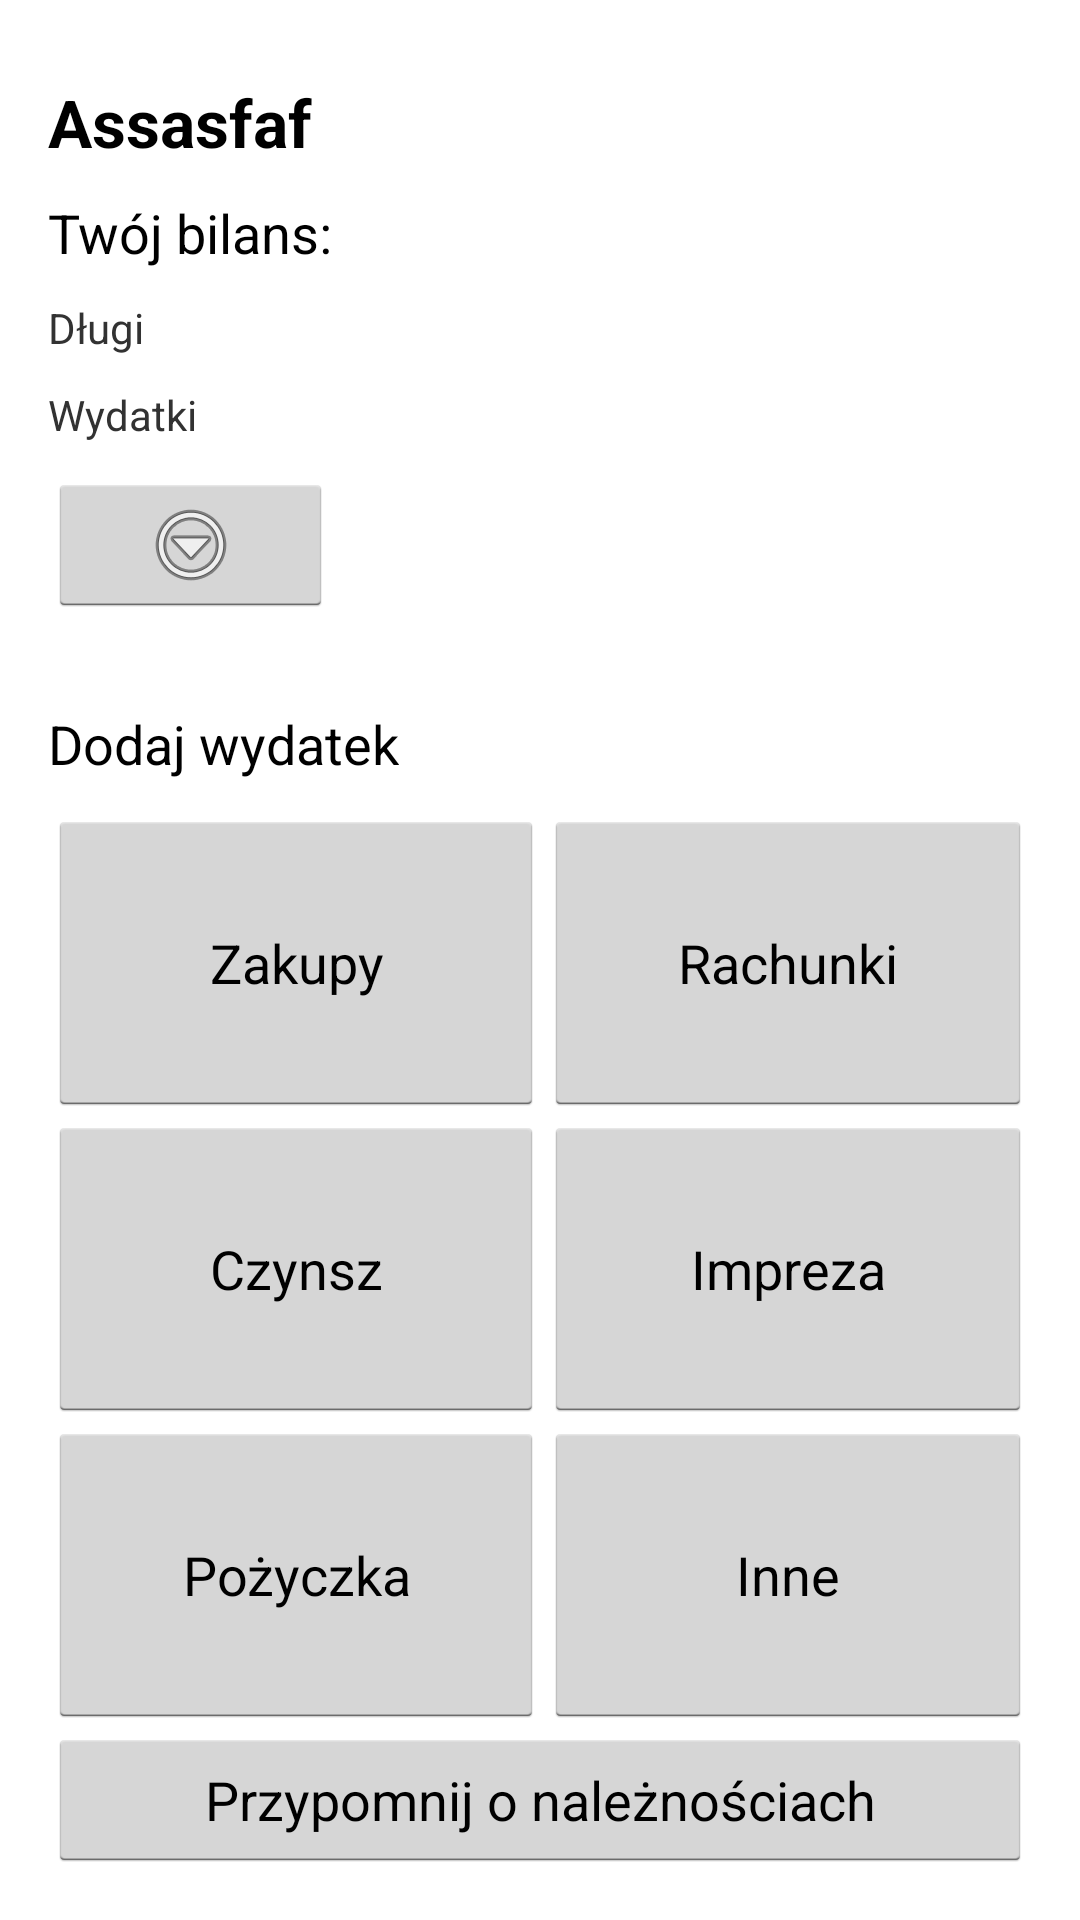

Screen size 1080px x 1920px. Icon name, then its center in pixels as [x,y]:
more: [190,546]
